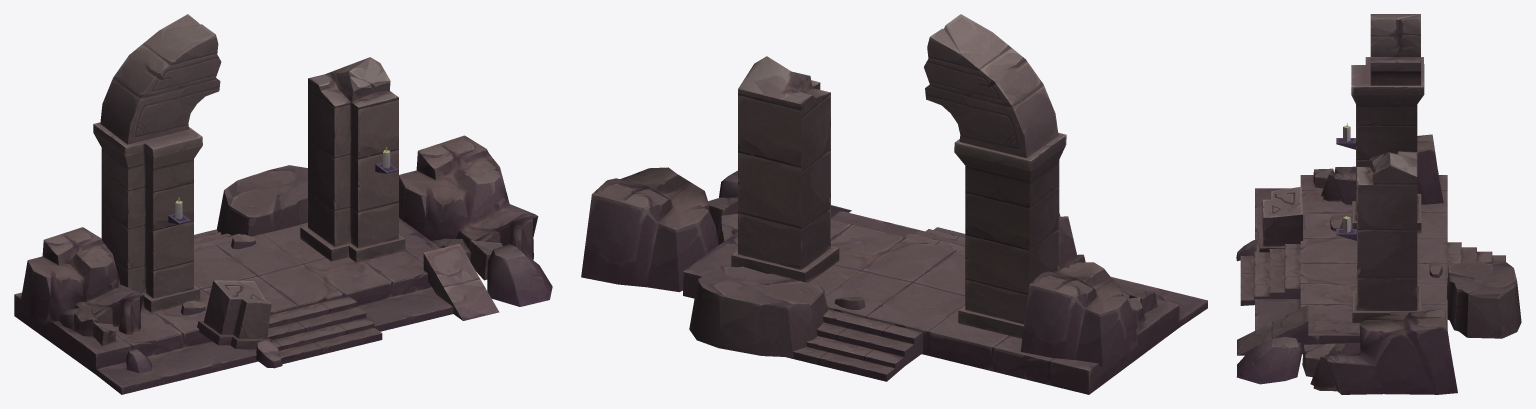
Rendered from poshuishimen.FBX.
3 renders of one model, left to right at view 1: azimuth 30°, elevation 25°; view 2: azimuth 150°, elevation 25°; view 3: azimuth 270°, elevation 25°, orthographic. The views are drawn at different scales.
Parts seen in each view (by area): view 1: poshuishimen; view 2: poshuishimen; view 3: poshuishimen.
Boxes of the visible parts, x1,y1,x2,y2 form: poshuishimen: (14,14,552,394); poshuishimen: (581,14,1207,394); poshuishimen: (1236,14,1521,394).
Bounding box in the file's own units: 16.6 × 9.34 × 9.77.
